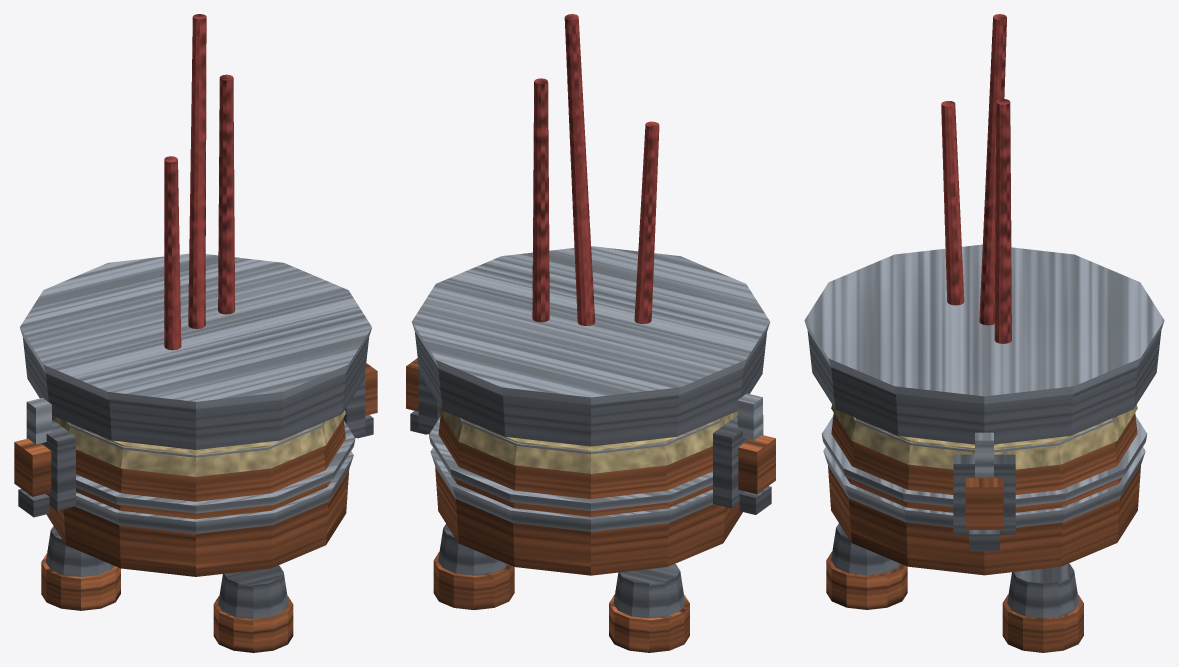
The model's file is incense_burner.fbx.
3 renders of one model, left to right at view 1: azimuth 30°, elevation 25°; view 2: azimuth 150°, elevation 25°; view 3: azimuth 270°, elevation 25°, orthographic. The views are drawn at different scales.
Visible parts, largest first — view 1: incense_burner; view 2: incense_burner; view 3: incense_burner.
Part boxes in pixels (x1,y1,x2,y2): incense_burner: [14, 14, 377, 652]; incense_burner: [406, 14, 775, 652]; incense_burner: [804, 14, 1164, 652].
Bounding box in the file's own units: 26 × 40.99 × 23.
